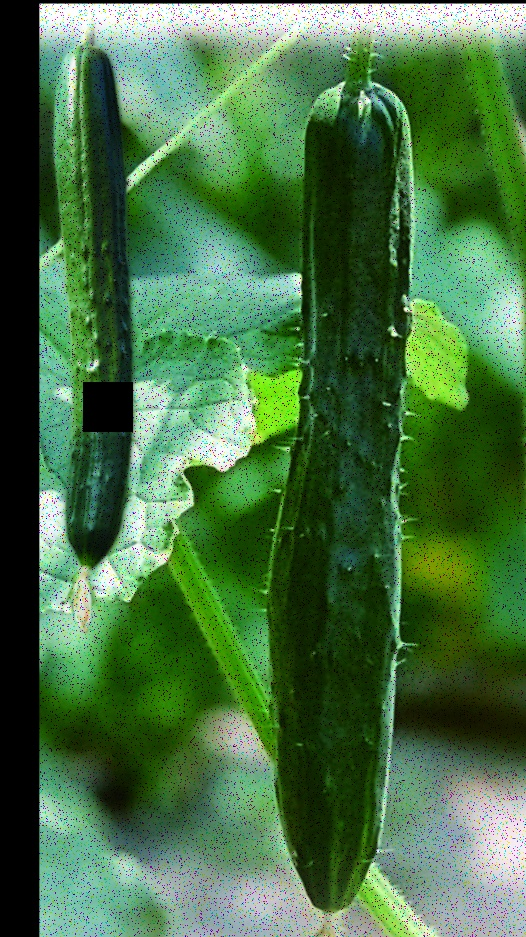cucumber: (254, 86, 432, 915), (47, 43, 145, 569)
